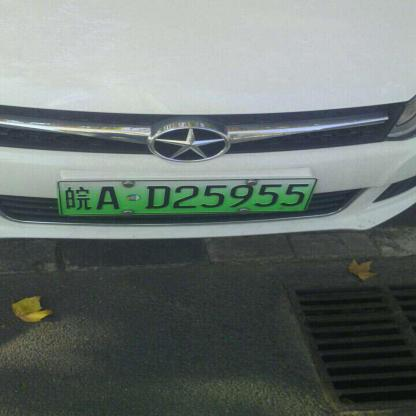lp: (58, 179, 315, 213)
